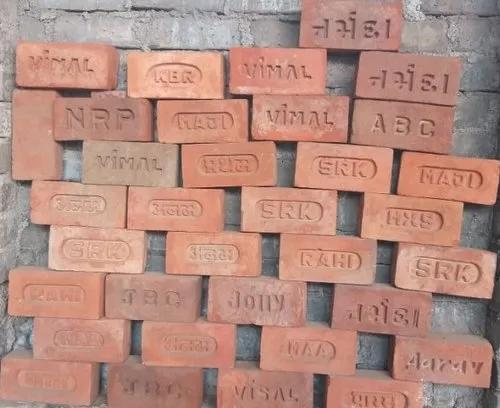brick: (394, 243, 497, 298), (357, 50, 458, 106), (356, 99, 451, 154), (332, 282, 432, 333), (397, 151, 499, 201), (391, 338, 493, 386), (362, 194, 462, 242), (293, 143, 393, 190), (208, 278, 310, 324), (258, 328, 360, 374), (6, 269, 103, 317), (299, 6, 399, 51), (53, 96, 148, 143), (104, 273, 199, 320), (141, 322, 236, 369), (157, 98, 250, 146), (227, 50, 324, 96), (279, 237, 374, 283), (253, 98, 350, 143), (123, 188, 224, 231), (128, 51, 222, 97), (10, 91, 57, 181), (47, 227, 143, 271), (243, 189, 338, 233), (29, 184, 126, 227), (167, 231, 259, 276), (32, 317, 123, 362), (16, 44, 109, 88), (84, 143, 179, 186), (180, 143, 273, 184), (110, 367, 204, 406), (0, 362, 91, 401), (217, 370, 312, 407), (327, 379, 419, 407)
